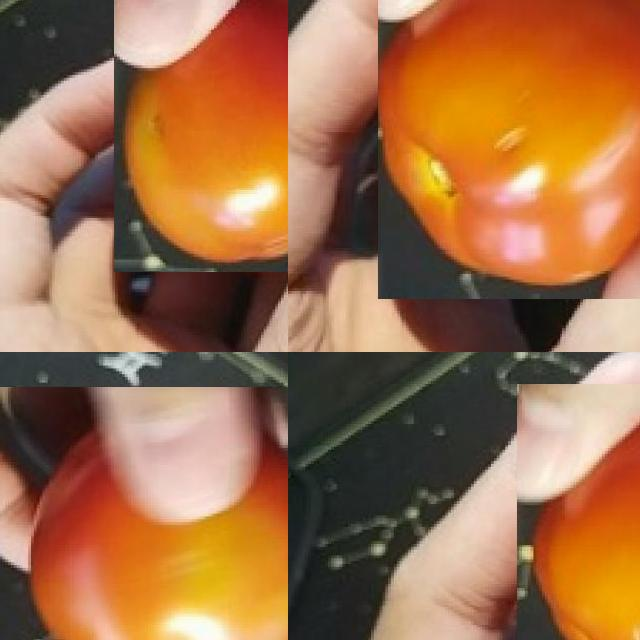Fresh Tomato: (377, 0, 640, 299), (0, 386, 288, 640), (113, 0, 288, 272), (516, 383, 640, 640)
